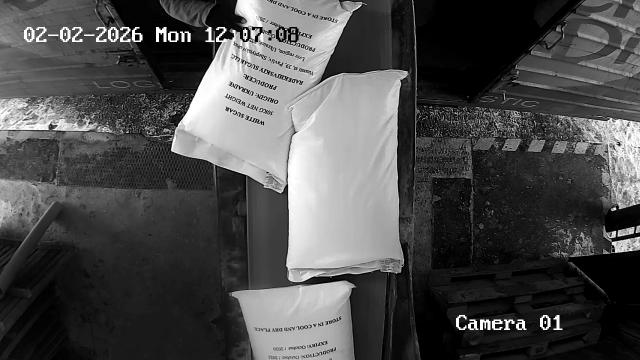bag: (170, 0, 362, 193), (287, 70, 408, 282), (232, 280, 356, 360)
